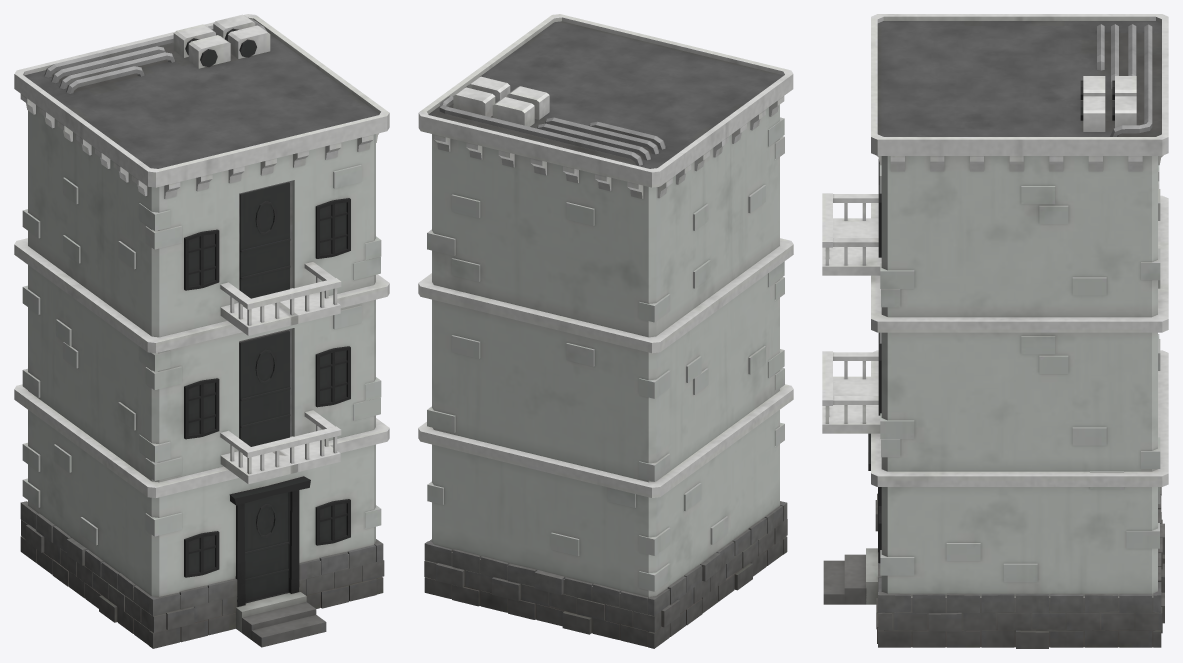
Rendered from building_3Story_Balcony.glb.
3 renders of one model, left to right at view 1: azimuth 30°, elevation 25°; view 2: azimuth 150°, elevation 25°; view 3: azimuth 270°, elevation 25°, orthographic. The views are drawn at different scales.
Parts seen in each view (by area): view 1: 3Story_Balcony_high; view 2: 3Story_Balcony_high; view 3: 3Story_Balcony_high.
Boxes of the visible parts, x1,y1,x2,y2 form: 3Story_Balcony_high: (14,14,389,648); 3Story_Balcony_high: (418,14,793,648); 3Story_Balcony_high: (822,14,1168,648).
Size of the model in its own units: 2.16 by 4.21 by 2.51.
1 material, 1 textured.
